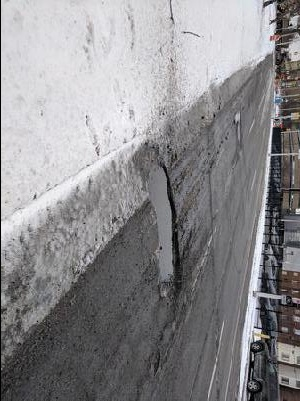pothole: (148, 160, 181, 299)
